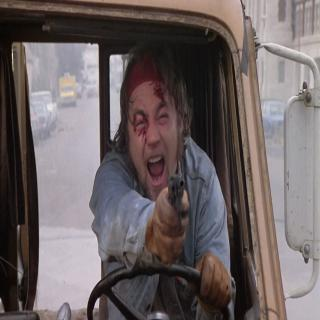gun: (153, 158, 197, 266)
